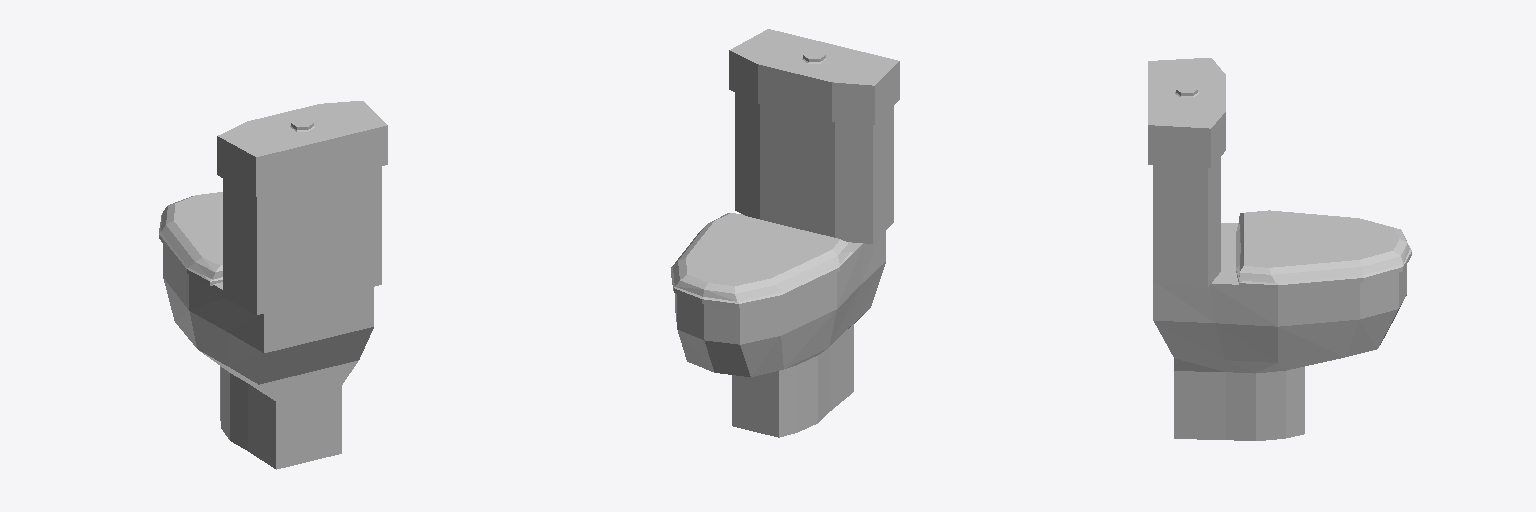
File: pcity_nodes_toilet_closed.obj
The picture shows the model from 3 angles: view 1: azimuth 30°, elevation 25°; view 2: azimuth 150°, elevation 25°; view 3: azimuth 270°, elevation 25°; orthographic projection.
Parts seen in each view (by area): view 1: Tank, Toilet, Cover; view 2: Tank, Toilet, Cover, Seat; view 3: Toilet, Tank, Cover, Seat.
Part boxes in pixels (x1,y1,x2,y2): Tank: (217,101,387,314); Toilet: (163,244,373,469); Cover: (161,192,222,279); Tank: (729,29,899,243); Toilet: (675,214,885,437); Cover: (673,213,851,301); Seat: (671,239,853,307); Toilet: (1153,223,1406,440); Tank: (1148,58,1225,286); Cover: (1239,210,1409,282); Seat: (1236,223,1411,289).
Bounding box in the file's own units: 0.777 × 1.7 × 1.22.